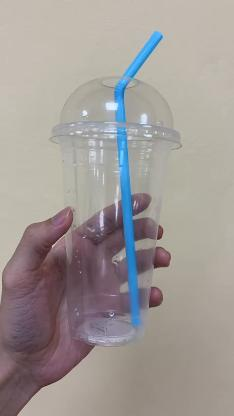Plastic Cup: (47, 72, 186, 348)
